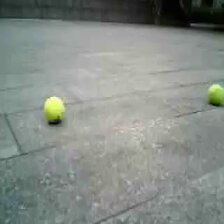tennis: (42, 97, 64, 119), (209, 82, 224, 107)
